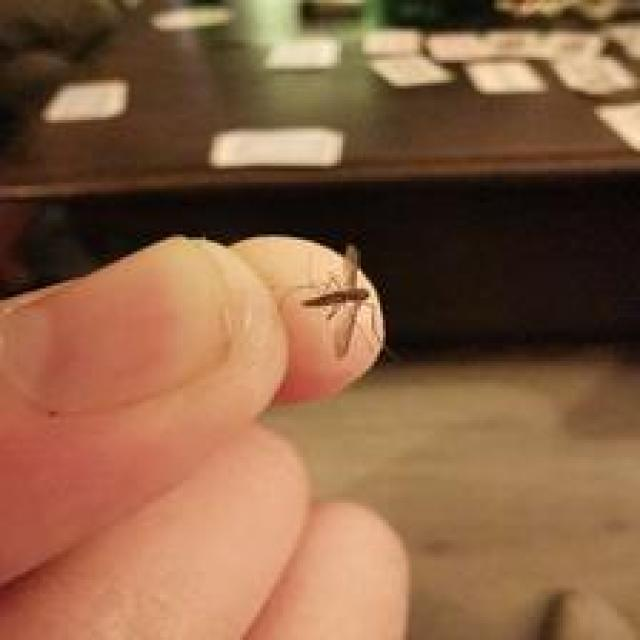Culex: (300, 243, 371, 357)
